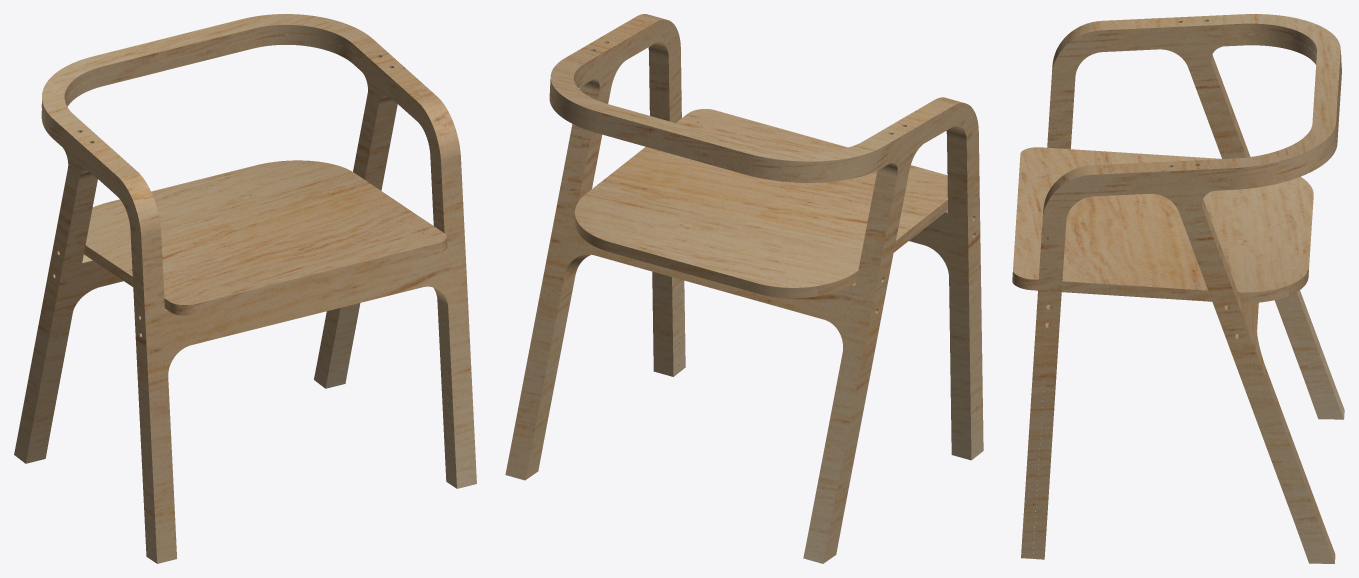
3 views of the same model, side by side, from view 1: azimuth 30°, elevation 25°; view 2: azimuth 150°, elevation 25°; view 3: azimuth 270°, elevation 25° (orthographic). The views are drawn at different scales.
Parts seen in each view (by area): view 1: 3; view 2: 3; view 3: 3.
Part boxes in pixels (box(x1,y1,x2,y2)): 3: box(14, 14, 476, 563); 3: box(505, 14, 983, 563); 3: box(1012, 14, 1344, 563).
Size of the model in its own units: 0.6009 by 0.6734 by 0.5045.
Materials: 1 (1 with a texture image).
